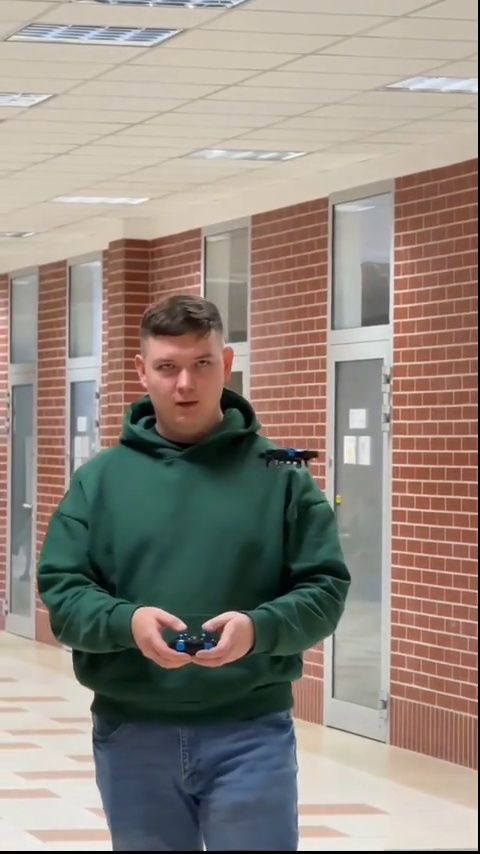drone: (259, 445, 319, 468)
no vest: (41, 296, 349, 832)
